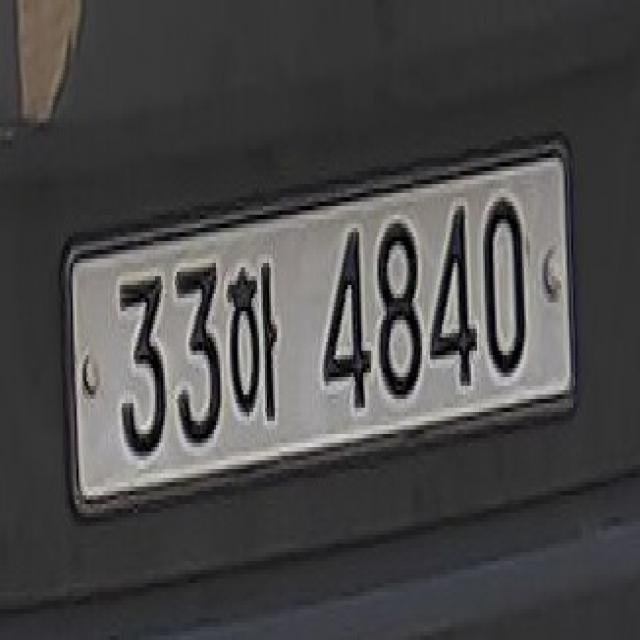0: (477, 193, 524, 372)
3: (171, 250, 226, 451), (116, 267, 169, 456)
4: (316, 224, 373, 408), (424, 197, 477, 386)
8: (375, 206, 424, 403)
ha: (226, 254, 281, 430)
license_plate: (61, 145, 573, 504)
